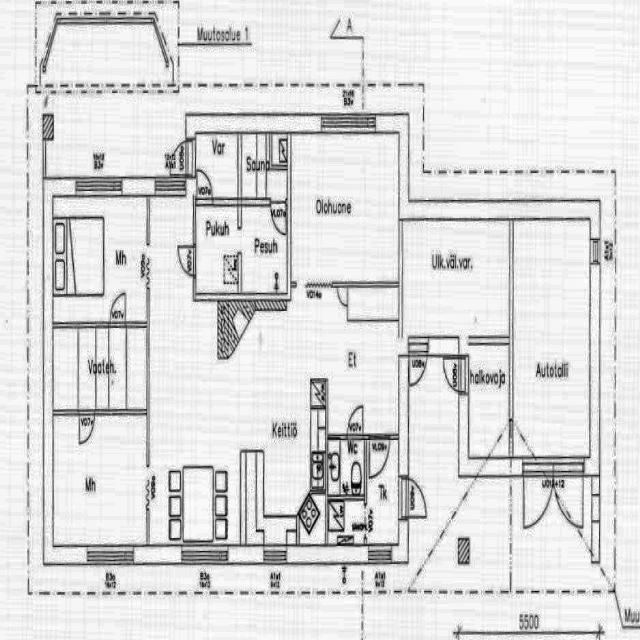Doors-dC8s: (524, 461, 582, 477), (366, 435, 372, 478), (402, 474, 406, 524), (409, 342, 427, 350), (109, 323, 126, 330), (79, 409, 96, 416), (465, 354, 468, 391), (191, 142, 193, 185), (348, 431, 364, 436), (194, 201, 216, 204), (195, 248, 196, 279)
Window: (49, 21, 160, 66), (318, 106, 380, 142), (180, 545, 232, 565), (88, 549, 133, 569), (74, 181, 124, 194), (366, 544, 392, 566), (261, 546, 288, 567), (157, 178, 185, 195), (589, 243, 604, 271)
